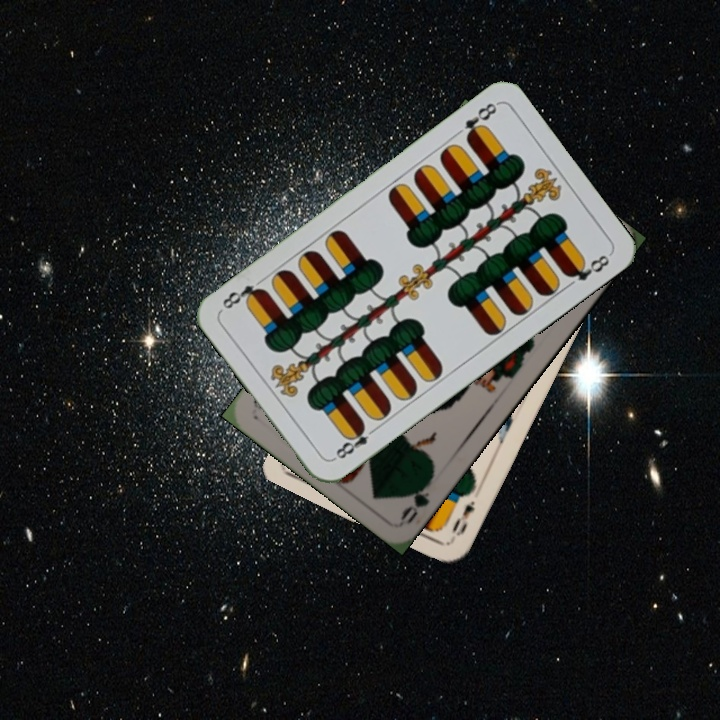E8: (329, 420, 380, 463), (460, 98, 500, 144)
EO: (447, 496, 478, 539)
GO: (396, 470, 436, 527)
